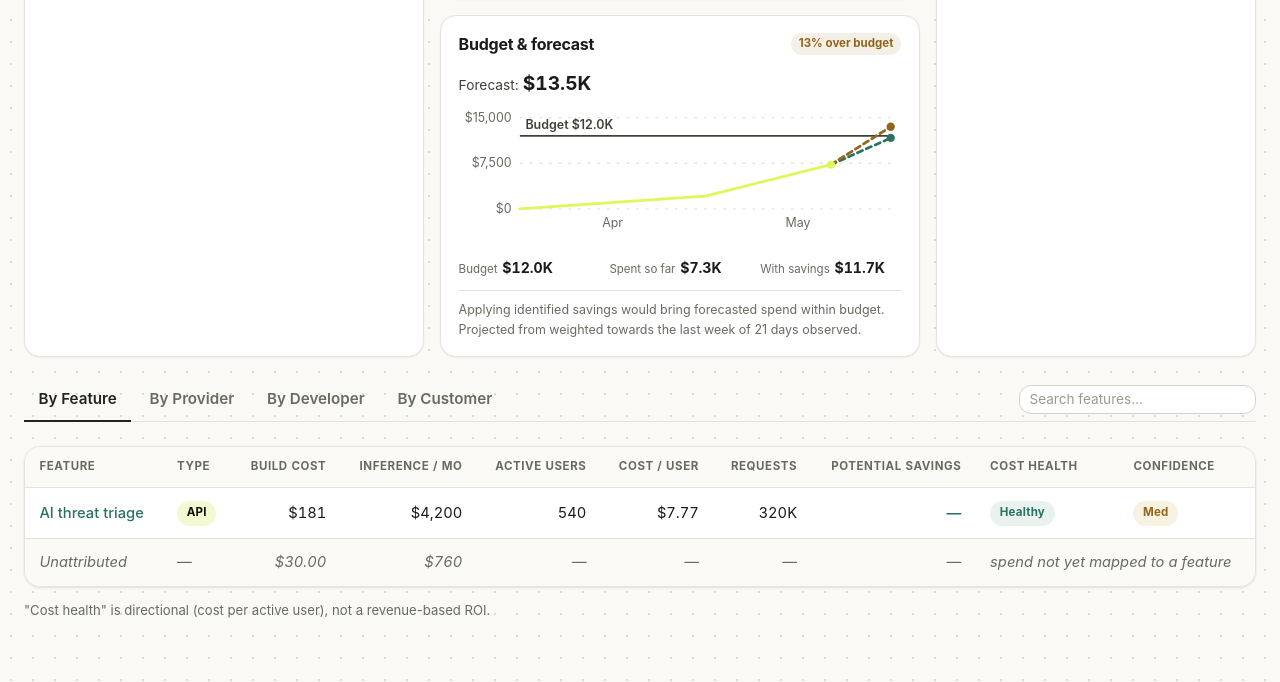
Test: Dashboard (Overview) › switches to the By developer tab and shows build cost per developer
The width and height of the screenshot is (1280, 682).
(page scrolled)
Click the tab "By Developer" at (316, 400), box [253, 378, 379, 422]
(page scrolled)
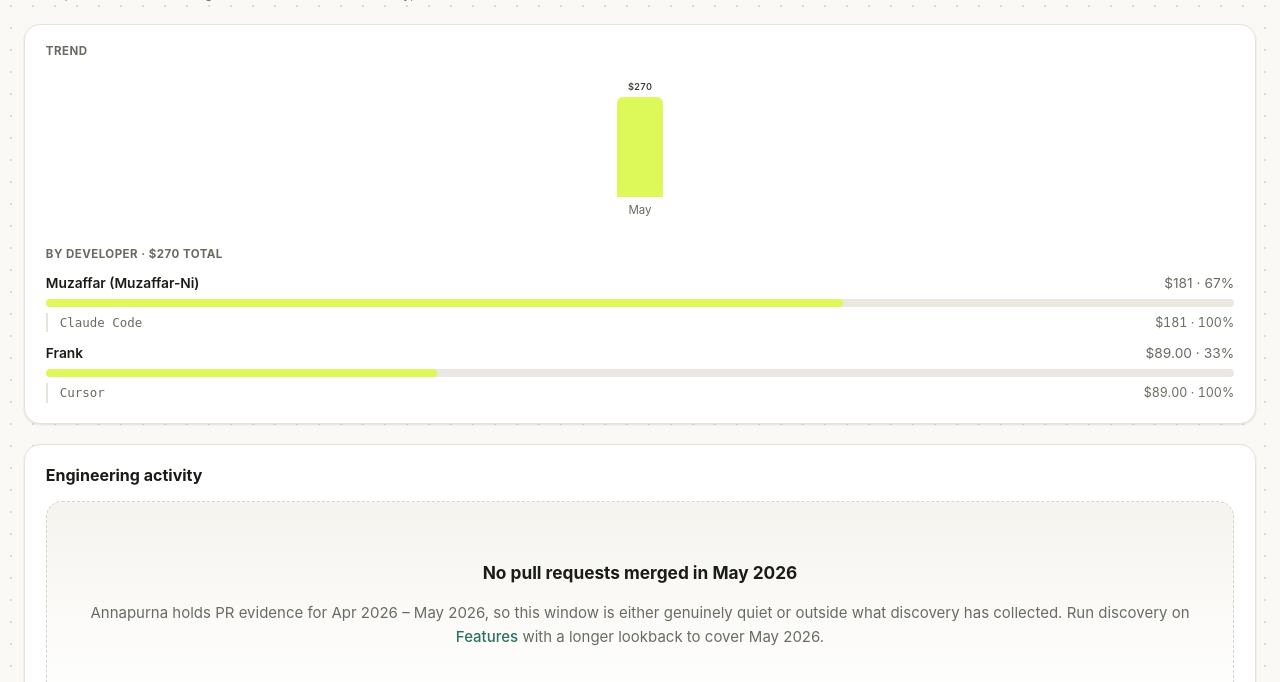
Result: the text "Muzaffar (Muzaffar-ni)" is shown at [46, 273, 200, 294]
Result: the text "Frank" is shown at [46, 343, 83, 365]
Result: the text "$181 · 67%" is shown at [1164, 273, 1234, 294]
